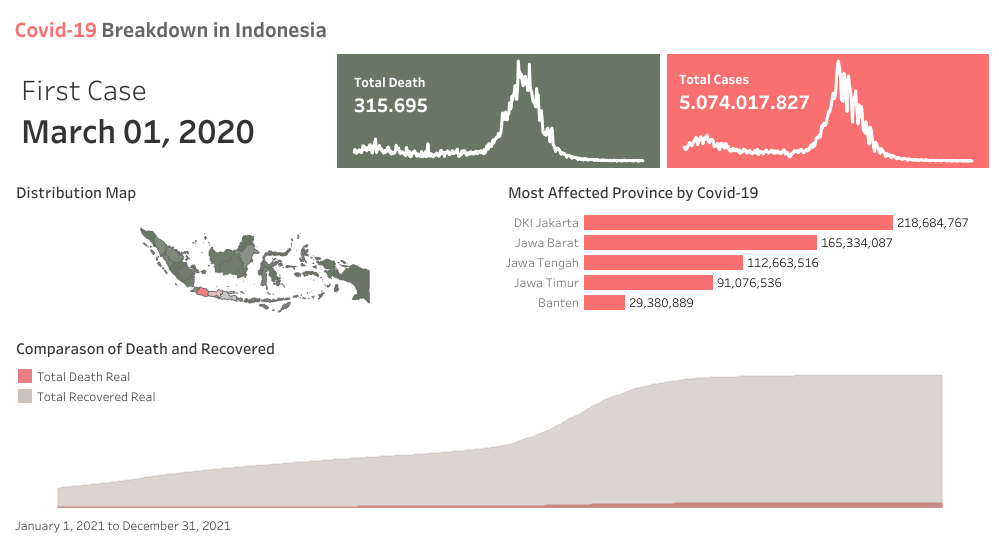

Layout of this report page (visuals, bound fields, positions):
{"tool":"tableau","page":{"name":"Dashboard 4","canvas":[1000,1000],"units":"permille","ordinal":0},"visuals":[{"type":"text","box":[8,14.3,984,74.5]},{"type":"worksheet","title":"First Case","mark":"Automatic","box":[8,88.8,325,216.7]},{"type":"worksheet","title":"Total Kematian","mark":"Line","rows":["New Deaths"],"cols":["Date"],"box":[333,88.8,329.5,216.7]},{"type":"worksheet","title":"Kasus Terkonfirmasi","mark":"Line","rows":["New Cases"],"cols":["Date"],"box":[662.5,88.8,329.5,216.7]},{"type":"worksheet","title":"Kasus Terkonfirmasi (2)","mark":"Line","box":[675,111.9,154,115.5]},{"type":"worksheet","title":"Total Kematian (2)","mark":"Line","box":[350,117.2,101,97.7]},{"type":"worksheet","title":"Peta","mark":"Automatic","box":[8,305.5,492,278.8]},{"type":"worksheet","title":"Worst Province","mark":"Automatic","rows":["Province"],"cols":["Total Cases"],"box":[500,305.5,492,278.8]},{"type":"worksheet","title":"Comparason","mark":"Area","rows":["Calculation_7881331093135367","Calculation_7881331093393416"],"cols":["Date"],"box":[8,584.4,984,330.3]},{"type":"legend","title":"Comparason","param":"[federated.1tymubh0yns4fq14oqf1h0b8byp1].[:Measure Names]","box":[15,653.6,145,103]},{"type":"filter","title":"Total Kematian","param":"[federated.1tymubh0yns4fq14oqf1h0b8byp1].[tdy:Date:qk]","box":[8,914.6,984,71.1]}]}

Visuals, with their boxes on the dashboard's canvas, which has no fixed pixel size, in thousandths of its width and height (x1, y1, x2, y2). These are canvas units, not pixel positions in the 999x559 screenshot, which may show the page scaled, cropped or inside an application window:
text: <bbox>8, 14, 992, 89</bbox>
"First Case" worksheet: <bbox>8, 89, 333, 306</bbox>
"Total Kematian" worksheet (Line marks): <bbox>333, 89, 662, 306</bbox>
"Kasus Terkonfirmasi" worksheet (Line marks): <bbox>662, 89, 992, 306</bbox>
"Kasus Terkonfirmasi (2)" worksheet (Line marks): <bbox>675, 112, 829, 227</bbox>
"Total Kematian (2)" worksheet (Line marks): <bbox>350, 117, 451, 215</bbox>
"Peta" worksheet: <bbox>8, 306, 500, 584</bbox>
"Worst Province" worksheet: <bbox>500, 306, 992, 584</bbox>
"Comparason" worksheet (Area marks): <bbox>8, 584, 992, 915</bbox>
"Comparason" legend: <bbox>15, 654, 160, 757</bbox>
"Total Kematian" filter: <bbox>8, 915, 992, 986</bbox>
